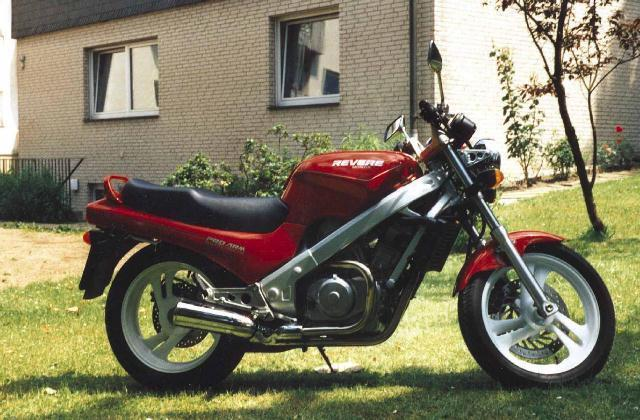motorcycle: (75, 38, 619, 395)
